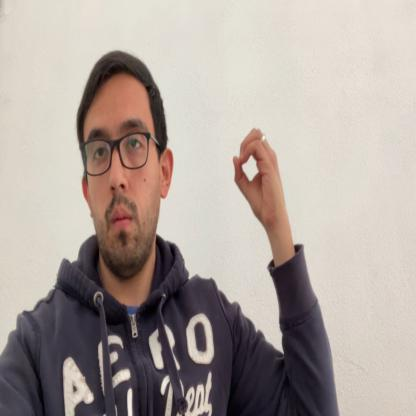O: (232, 125, 284, 229)
